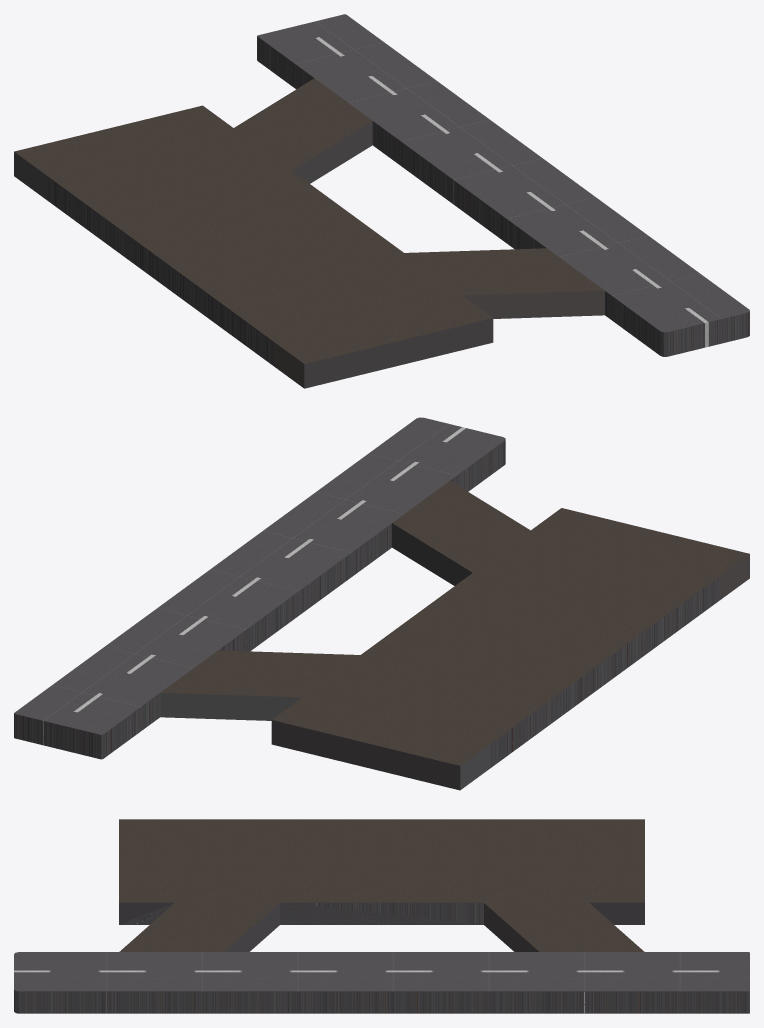
The model's file is airport large.obj.
The picture shows the model from 3 angles, top to bottom: view 1: azimuth 30°, elevation 25°; view 2: azimuth 150°, elevation 25°; view 3: azimuth 270°, elevation 25°; orthographic projection. The views are drawn at different scales.
Visible parts, largest first — view 1: tarmac.001_Cube.001; view 2: tarmac.001_Cube.001; view 3: tarmac.001_Cube.001.
Part boxes in pixels (x1,y1,x2,y2): tarmac.001_Cube.001: [14, 14, 749, 388]; tarmac.001_Cube.001: [14, 417, 749, 790]; tarmac.001_Cube.001: [14, 819, 749, 1013].
Size of the model in its own units: 219 by 13.19 by 395.
